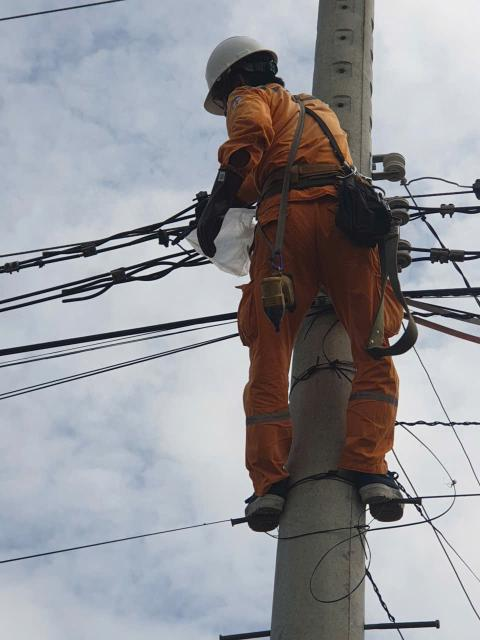gloves: (194, 171, 247, 262)
harness: (232, 152, 377, 196)
helmet: (172, 25, 288, 131)
shoes: (223, 472, 299, 543), (354, 453, 414, 530)
